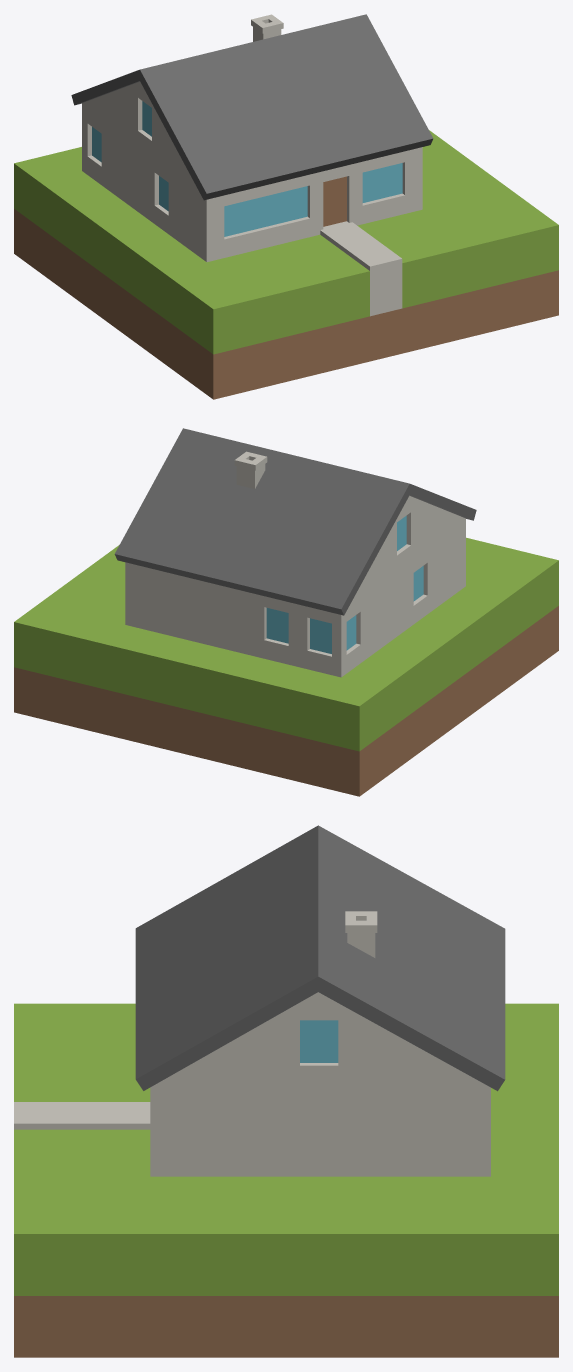
The model's file is house-small.glb.
The picture shows the model from 3 angles, top to bottom: view 1: azimuth 30°, elevation 25°; view 2: azimuth 150°, elevation 25°; view 3: azimuth 270°, elevation 25°; orthographic projection. The views are drawn at different scales.
Visible parts, largest first — view 1: house-small; view 2: house-small; view 3: house-small.
Boxes of the visible parts, x1,y1,x2,y2 form: house-small: (14, 14, 558, 399); house-small: (14, 428, 558, 796); house-small: (14, 825, 558, 1357).
Bounding box in the file's own units: 8 × 5.34 × 8.
1 material, 1 textured.
